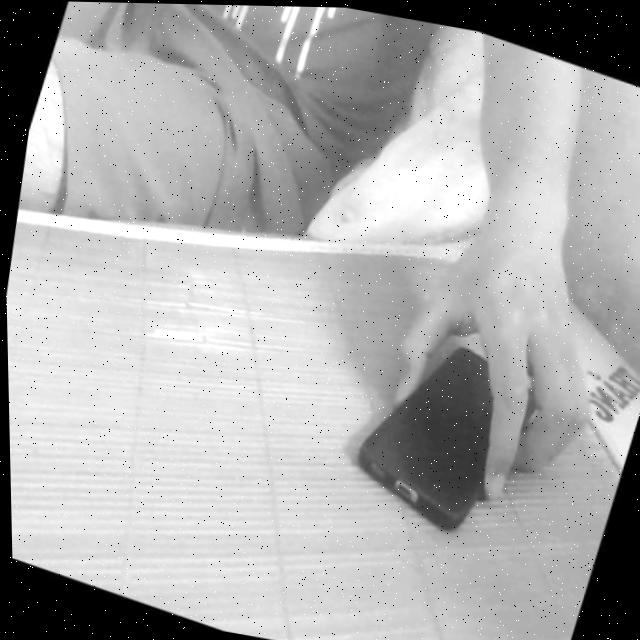phone: (316, 285, 566, 572)
